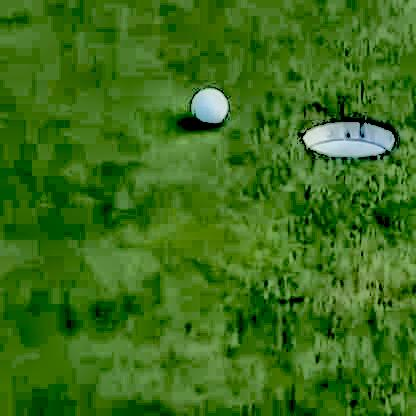golfball: (186, 83, 228, 125)
